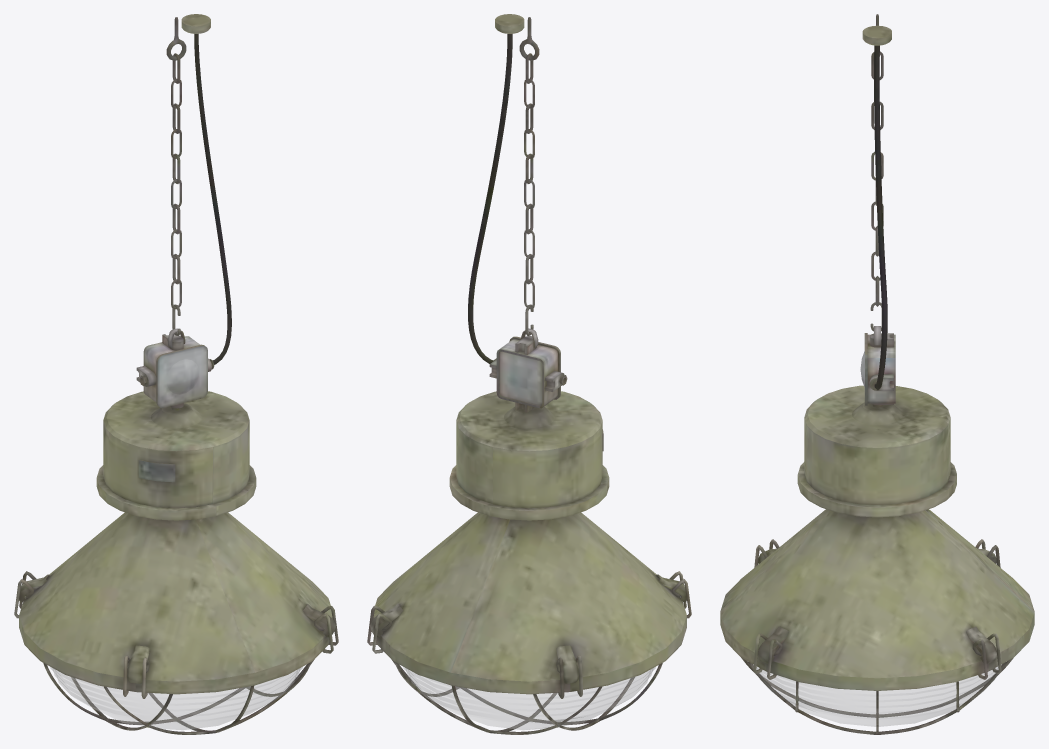
File: hanging_lamp.glb
The picture shows the model from 3 angles, left to right: view 1: azimuth 30°, elevation 25°; view 2: azimuth 150°, elevation 25°; view 3: azimuth 270°, elevation 25°; orthographic projection.
Visible parts, largest first — view 1: hanging_industrial_lamp; view 2: hanging_industrial_lamp; view 3: hanging_industrial_lamp.
Boxes of the visible parts, left/top/right/bottom form: hanging_industrial_lamp: left=14, top=14, right=338, bottom=734; hanging_industrial_lamp: left=367, top=14, right=691, bottom=734; hanging_industrial_lamp: left=720, top=14, right=1034, bottom=734.
Size of the model in its own units: 0.5496 by 1.36 by 0.5496.
Materials: 2 (1 with a texture image).
